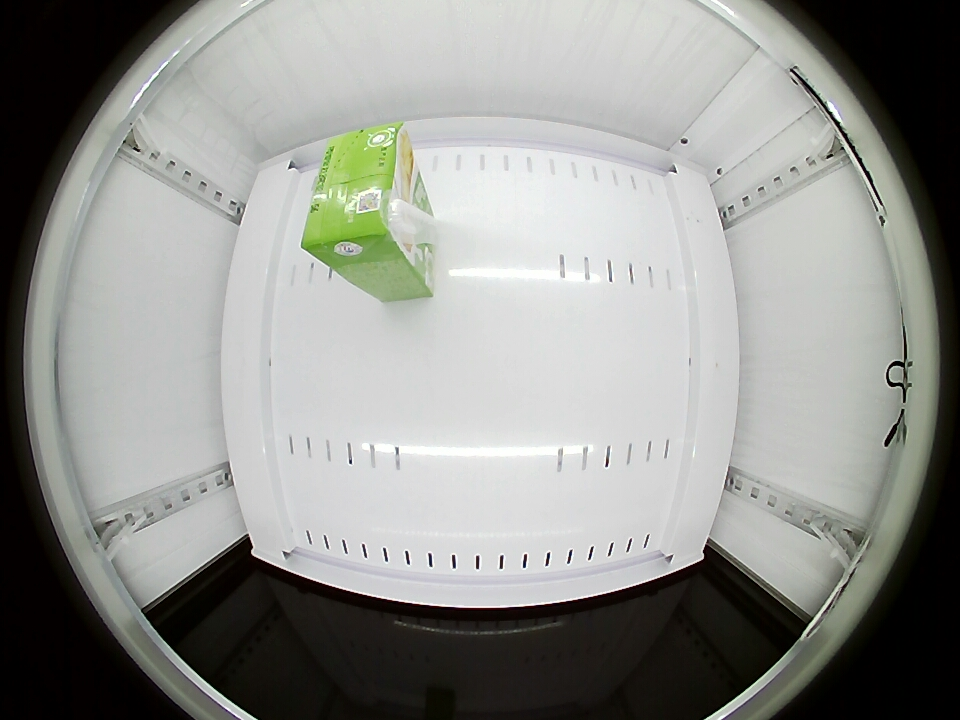mengniuzaocan: (302, 123, 419, 264)
